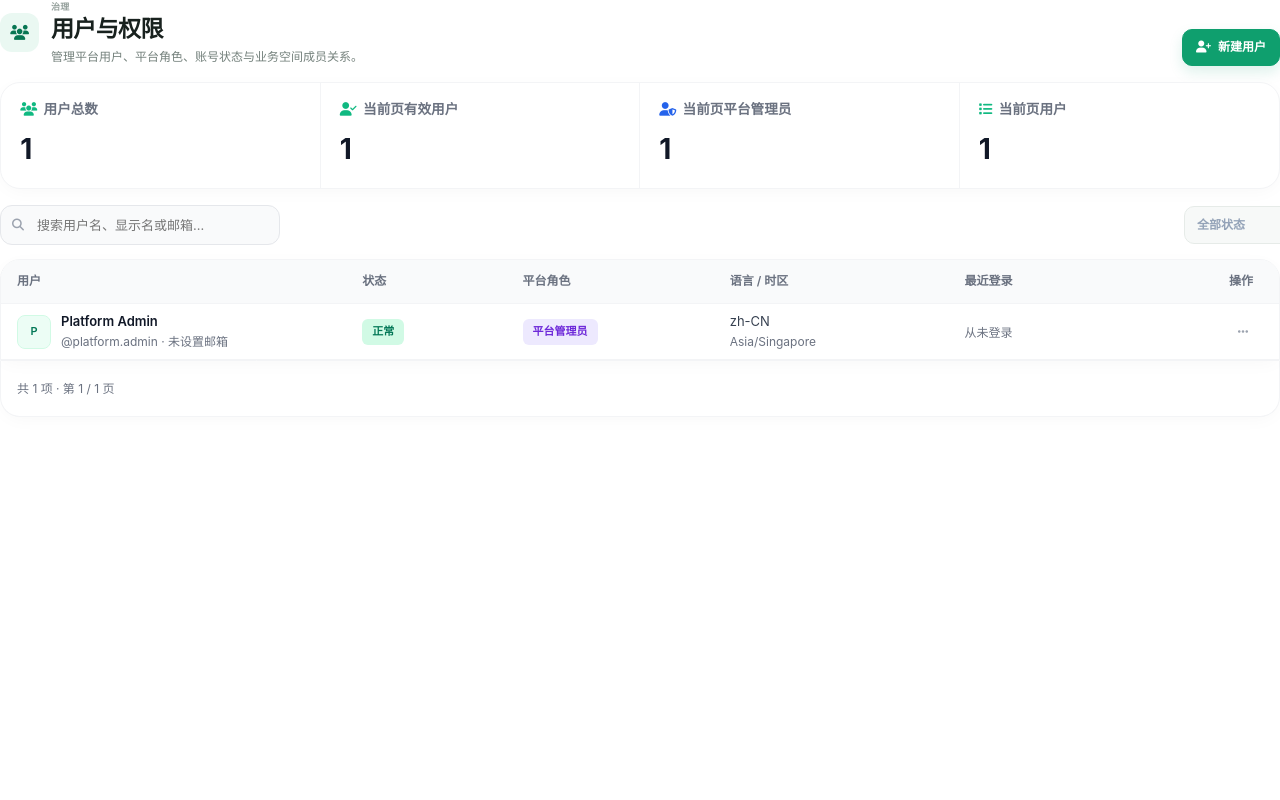
user access management view › shows request ids when last-administrator protection rejects a role change
Click the button named "用户安全操作".
click(1243, 332)  # box 1225,314 -> 1261,350
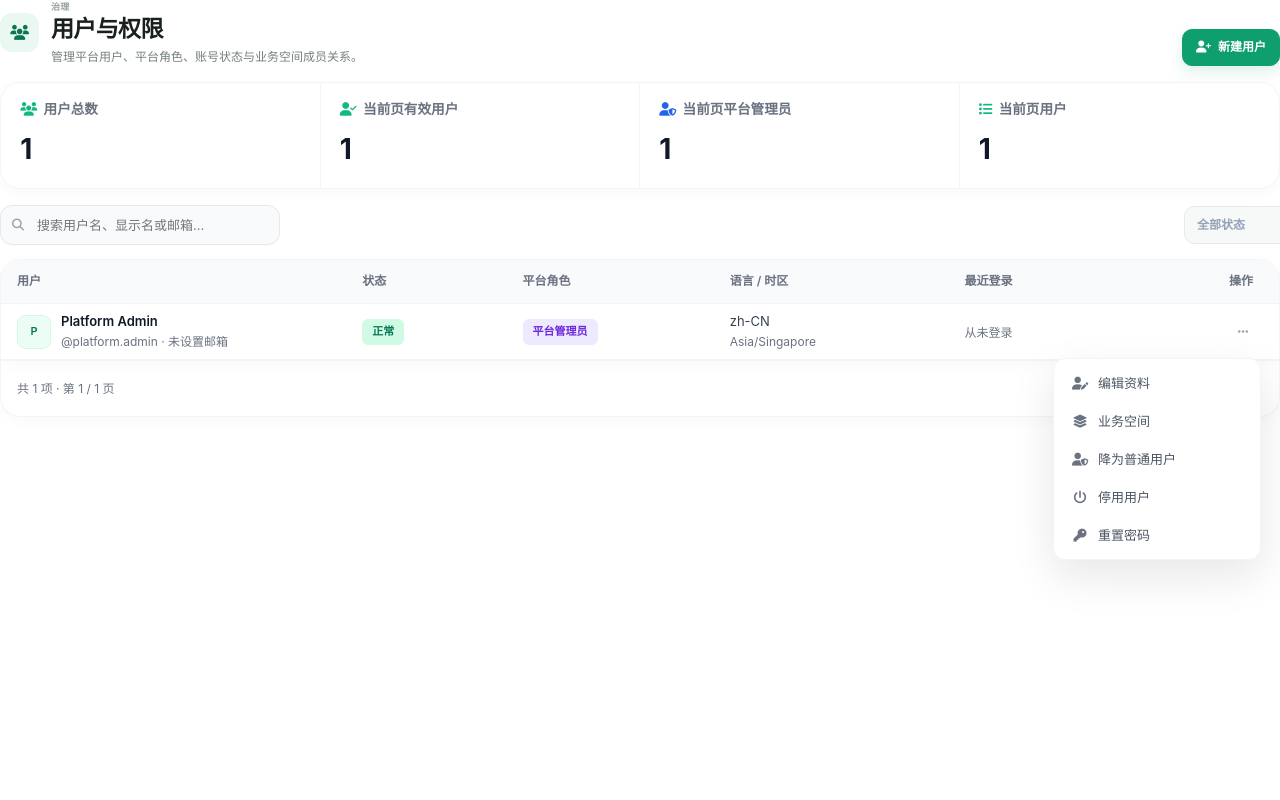
Click the menu item "降为普通用户".
click(1157, 459)  # box 1060,441 -> 1254,477
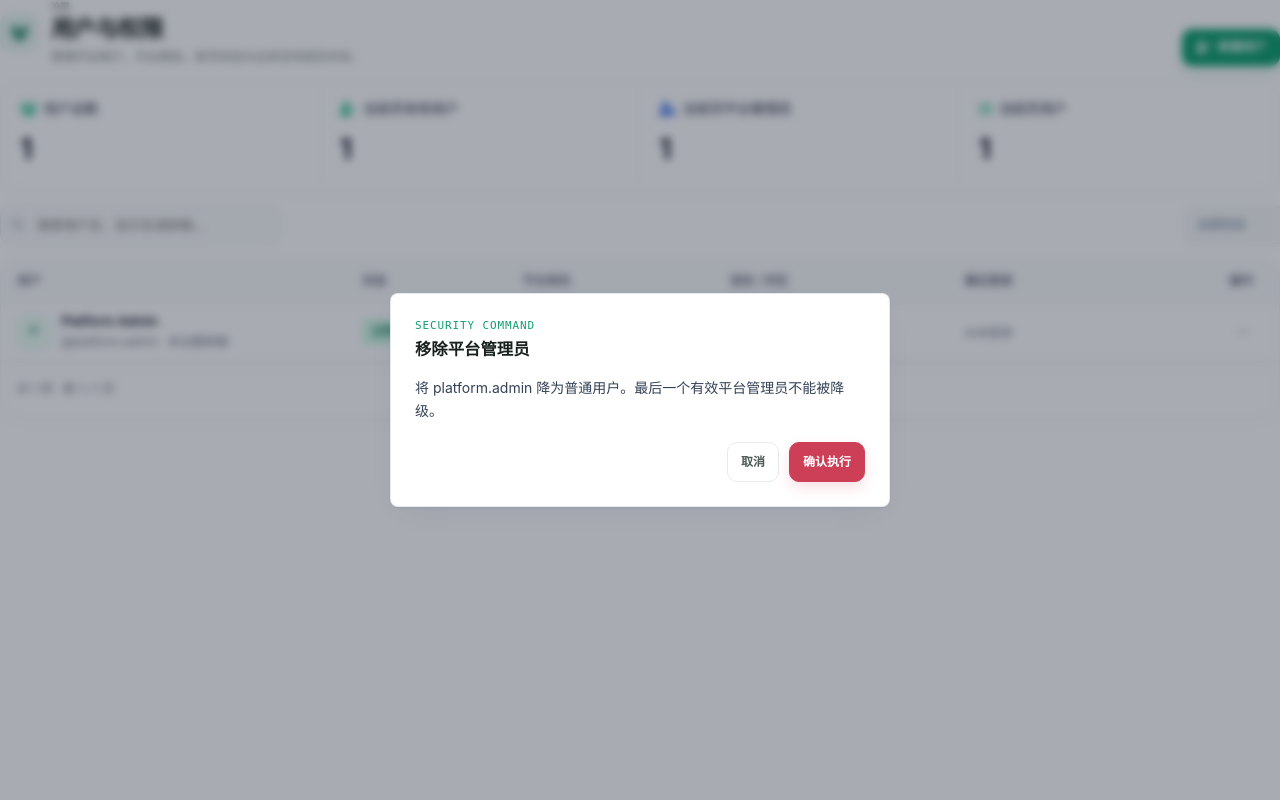
Expected: the dialog named "移除平台管理员" shows "最后一个有效平台管理员不能被降级", 415,379 -> 844,419
Click the button "确认执行".
click(827, 462)  # box 789,442 -> 865,482
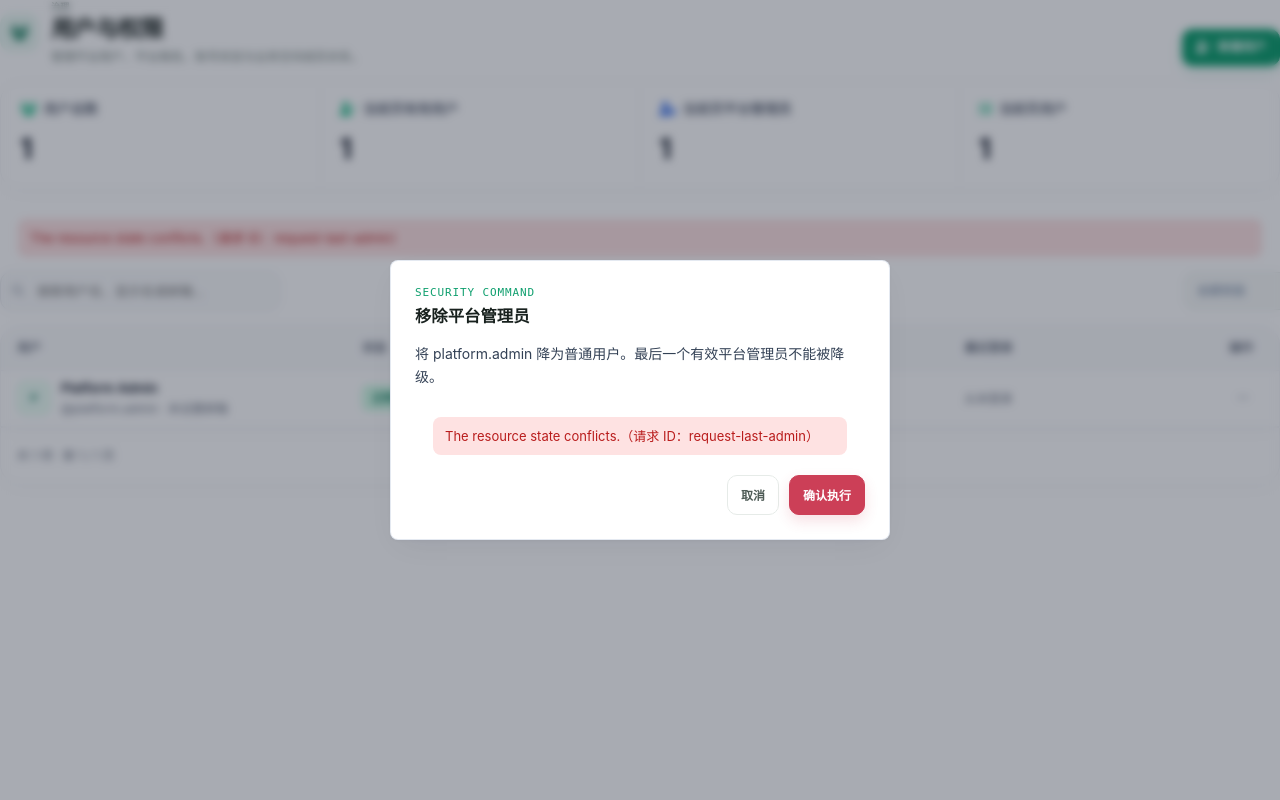
Expected: the message "The resource state conflicts.（请求 ID：request-last-admin）" is shown, 433,416 -> 847,455
